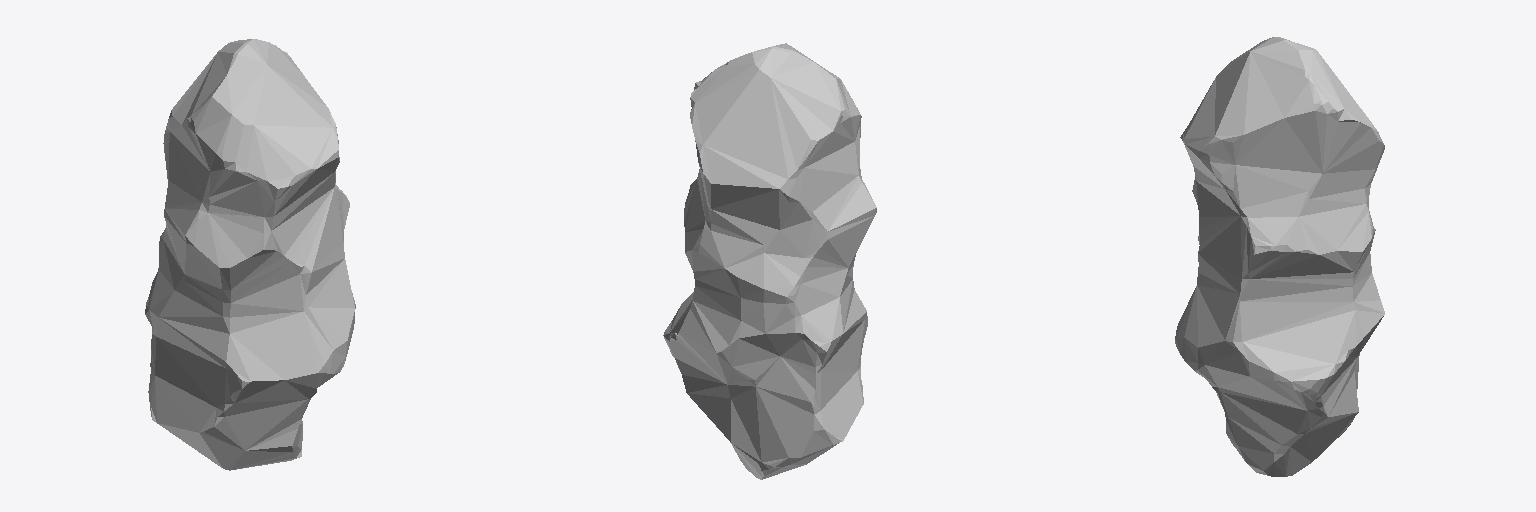
File: tp rock.obj
3 views of the same model, side by side, from view 1: azimuth 30°, elevation 25°; view 2: azimuth 150°, elevation 25°; view 3: azimuth 270°, elevation 25° (orthographic).
Visible parts, largest first — view 1: Cube.001; view 2: Cube.001; view 3: Cube.001.
Boxes of the visible parts, x1,y1,x2,y2 form: Cube.001: [145, 39, 355, 470]; Cube.001: [663, 43, 876, 479]; Cube.001: [1175, 37, 1384, 476].
Bounding box in the file's own units: 3.11 × 7.04 × 3.17.